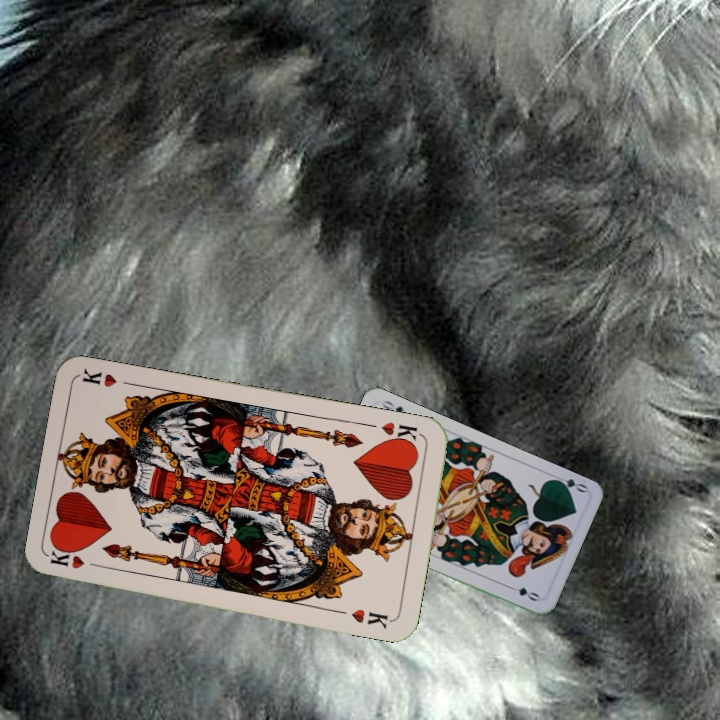GO: (549, 471, 590, 496)
HK: (47, 546, 107, 572), (377, 418, 425, 449)
